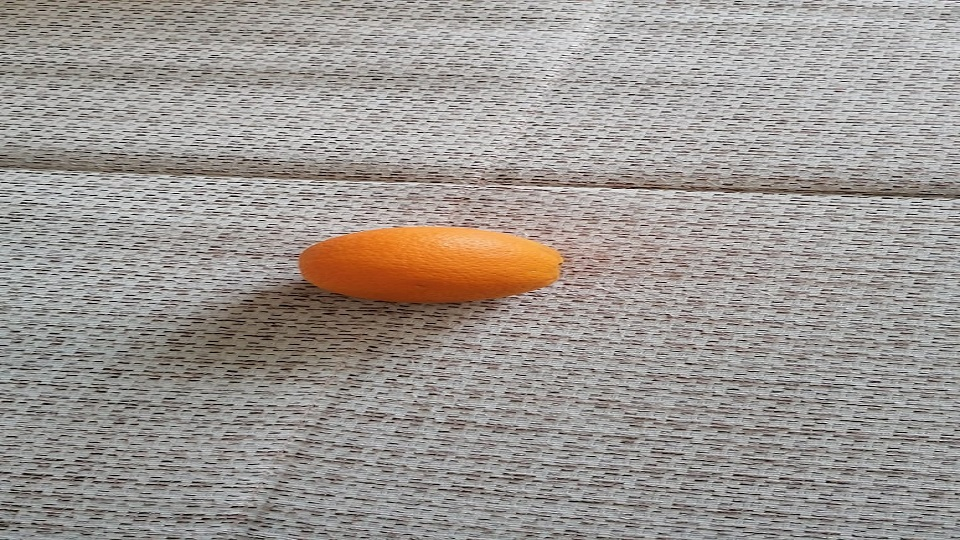portakal: (296, 224, 565, 306)
